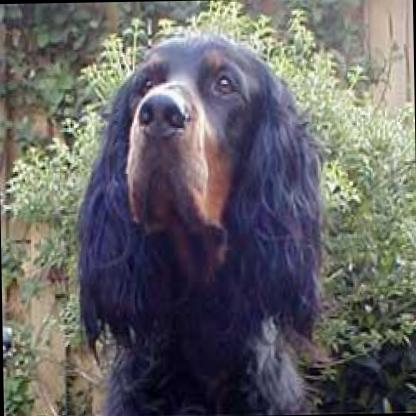Gordon_setter: (66, 23, 324, 414)
